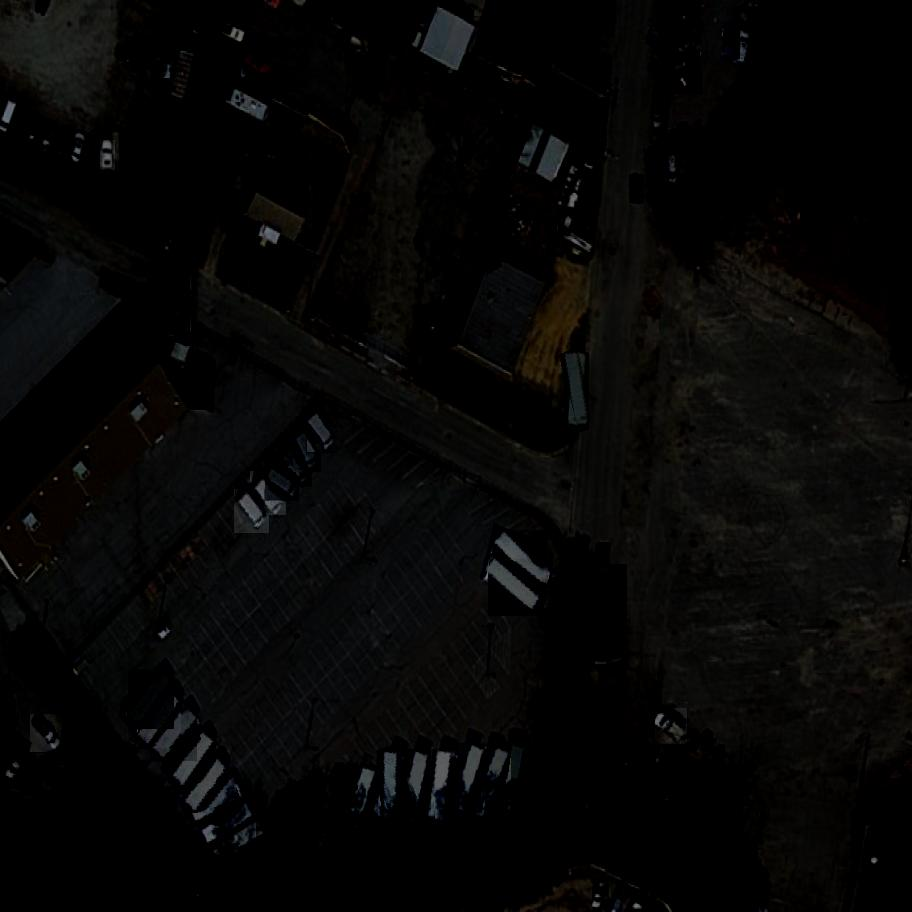large-vehicle: (579, 564, 629, 670), (484, 560, 546, 616), (493, 531, 551, 589), (182, 755, 233, 813), (126, 671, 176, 730), (472, 746, 512, 819), (169, 730, 218, 789), (136, 690, 185, 749), (151, 706, 203, 761), (210, 820, 269, 868), (200, 801, 259, 848), (309, 775, 343, 856), (451, 744, 488, 817), (189, 781, 250, 825), (401, 749, 434, 824), (345, 767, 379, 837), (498, 742, 528, 818), (565, 351, 589, 430), (432, 750, 455, 825), (382, 748, 402, 822)
small-vehicle: (248, 472, 290, 516), (233, 490, 275, 534), (1, 740, 38, 787), (306, 411, 342, 453), (279, 448, 316, 488), (262, 466, 303, 501), (654, 708, 692, 744), (31, 714, 65, 754), (293, 431, 323, 473), (112, 43, 146, 73), (240, 49, 274, 78), (252, 73, 288, 100), (672, 68, 704, 96), (732, 6, 761, 36), (229, 60, 259, 89), (70, 133, 91, 166), (26, 110, 44, 147), (670, 129, 698, 152), (735, 31, 753, 66), (723, 25, 741, 59), (673, 52, 701, 73), (675, 36, 701, 58), (593, 882, 611, 912), (57, 130, 73, 162), (629, 173, 644, 205), (100, 140, 115, 170), (667, 154, 680, 185), (653, 106, 666, 135), (42, 123, 54, 154)
